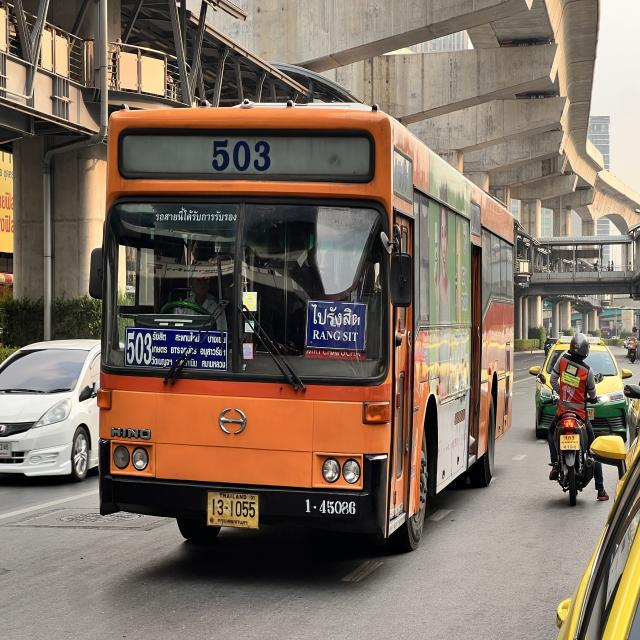BMTA-bus: (82, 93, 522, 558)
Bus-Line-Number: (202, 134, 282, 177)
Destination-Sign-Normal: (306, 298, 368, 351)
